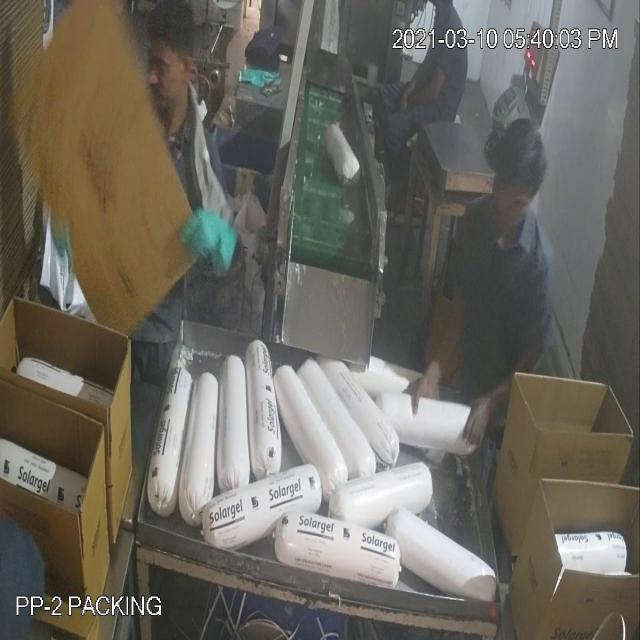No_Gloves: (54, 62, 505, 392)
